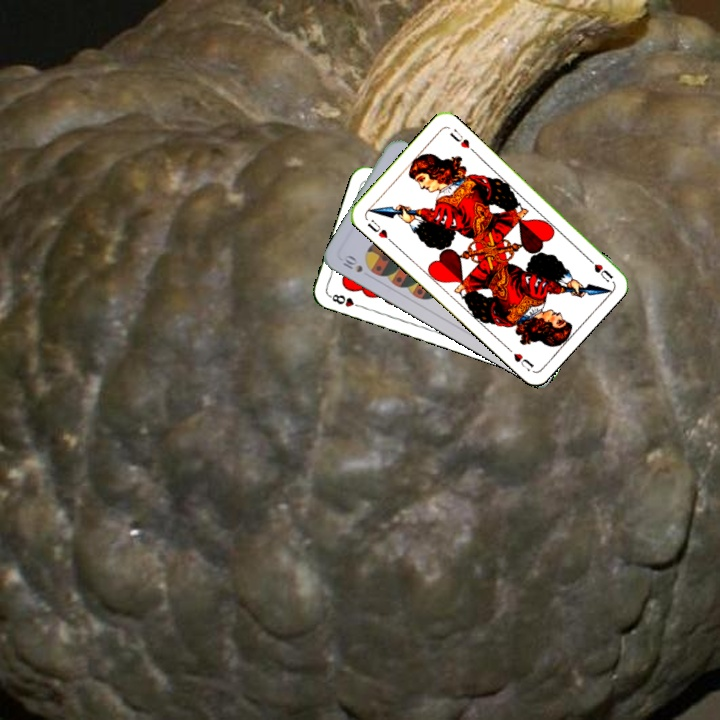H8: (325, 290, 365, 310)
HU: (582, 253, 616, 285), (363, 215, 395, 245)
S10: (339, 251, 365, 275)
